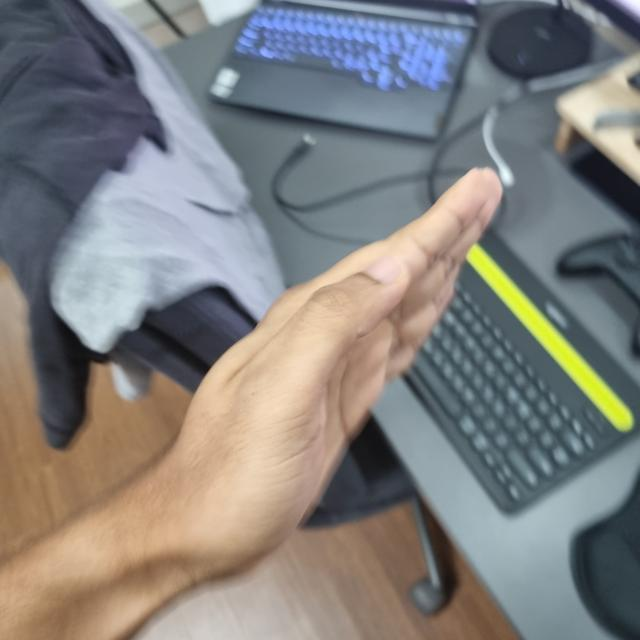Paper: (154, 174, 496, 576)
